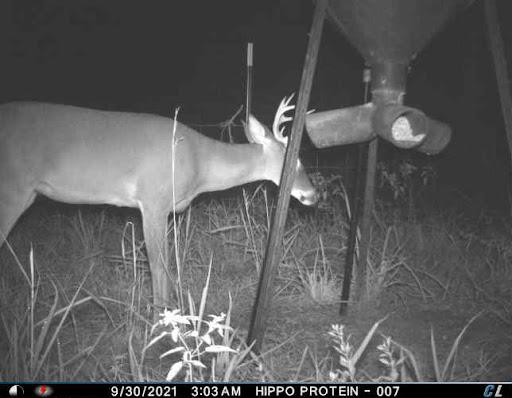Deer: (0, 87, 322, 331)
